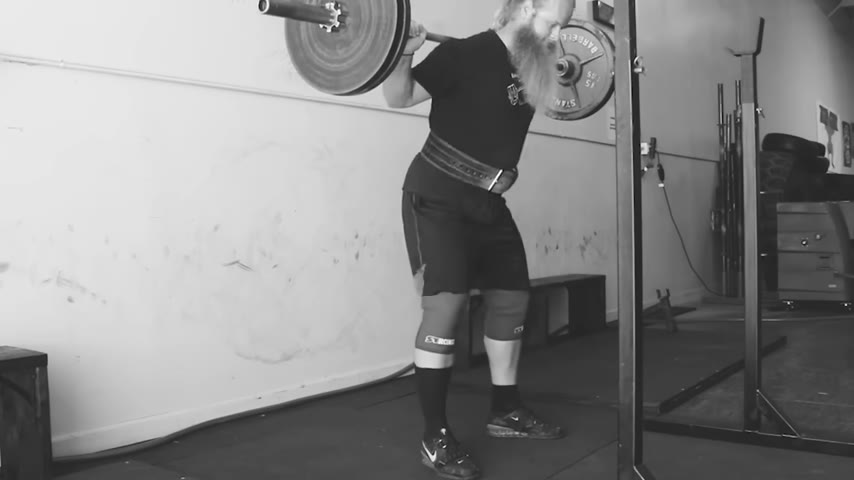barbell_plate_side: (538, 9, 622, 176), (256, 0, 341, 112)
